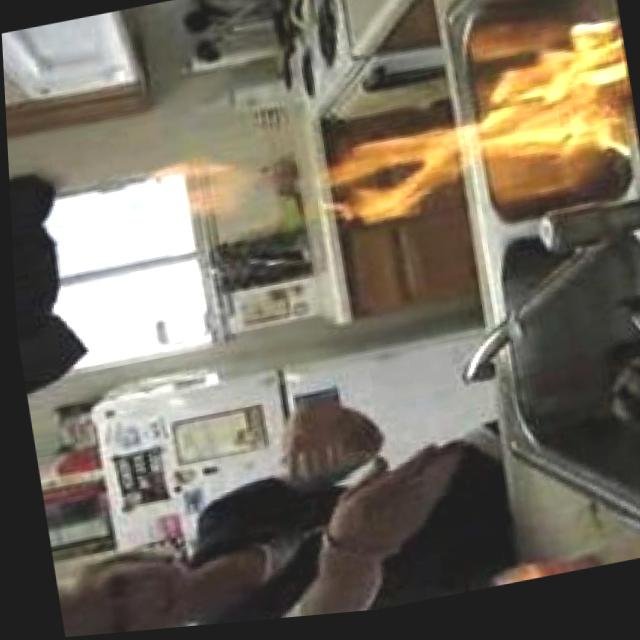helmet: (298, 30, 640, 237)
